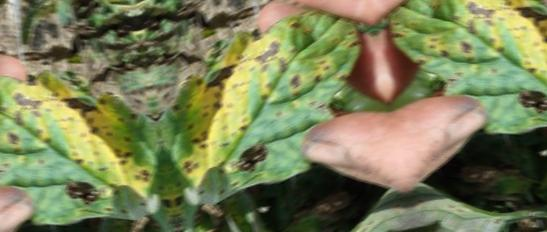Tomato Septoria leaf spot: (141, 2, 388, 223), (319, 198, 421, 232)
